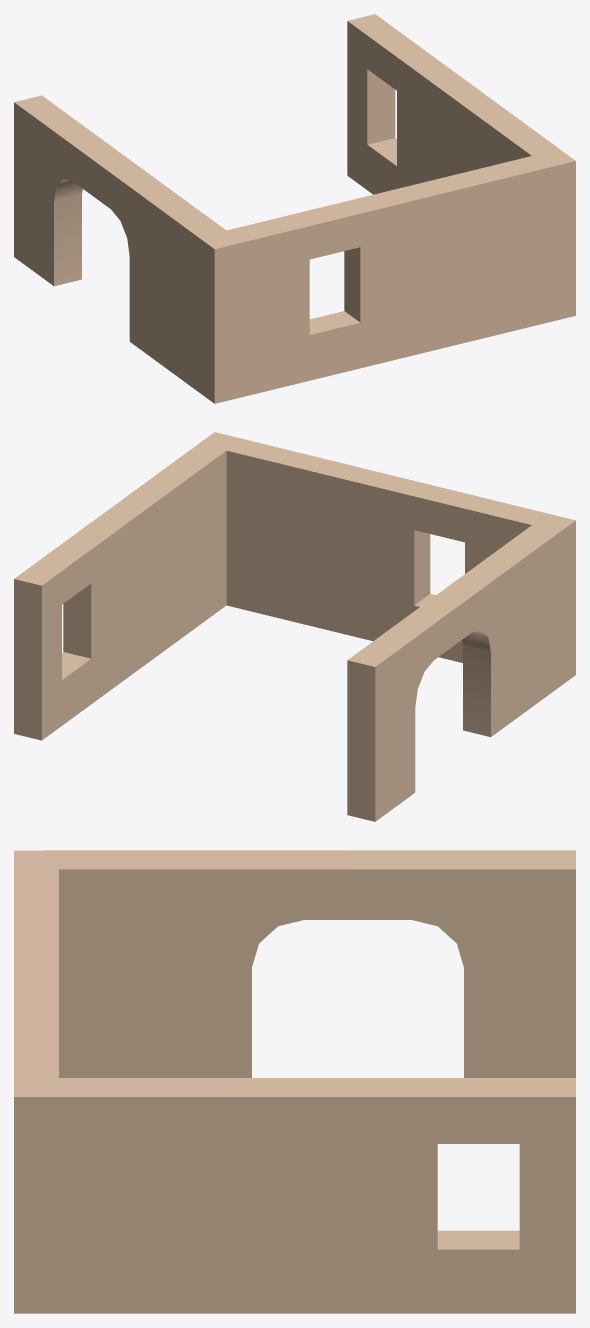
File: walls.glb
3 renders of one model, top to bottom at view 1: azimuth 30°, elevation 25°; view 2: azimuth 150°, elevation 25°; view 3: azimuth 270°, elevation 25°, orthographic. The views are drawn at different scales.
Parts seen in each view (by area): view 1: Wall#1; view 2: Wall#1; view 3: Wall#1.
Boxes of the visible parts, x1,y1,x2,y2 form: Wall#1: (14, 14, 575, 403); Wall#1: (14, 432, 575, 821); Wall#1: (14, 850, 575, 1313).
Bounding box in the file's own units: 21.85 × 8.95 × 21.03.
